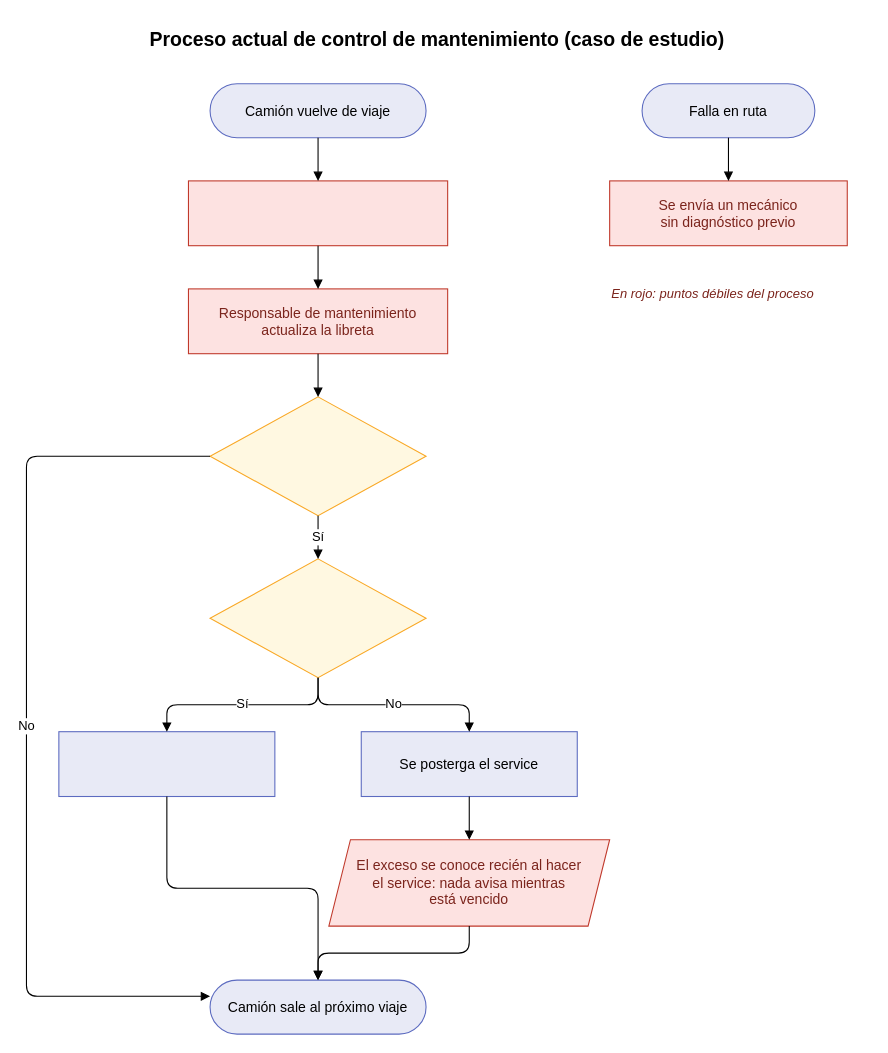
Image size: 888x1053. Some labels were removed from this diagram. The centre of each missing label's shape, as x and y in pixels:
"Chofer informa kilometraje y novedades de palabra" belongs at pixel 317 213.
"Se realiza el service y se anota en la libreta" belongs at pixel 166 763.
"¿Corresponde service por km o hay falla?" belongs at pixel 317 456.
"¿Hay lugar en el taller y tiempo antes de salir?" belongs at pixel 317 618.
